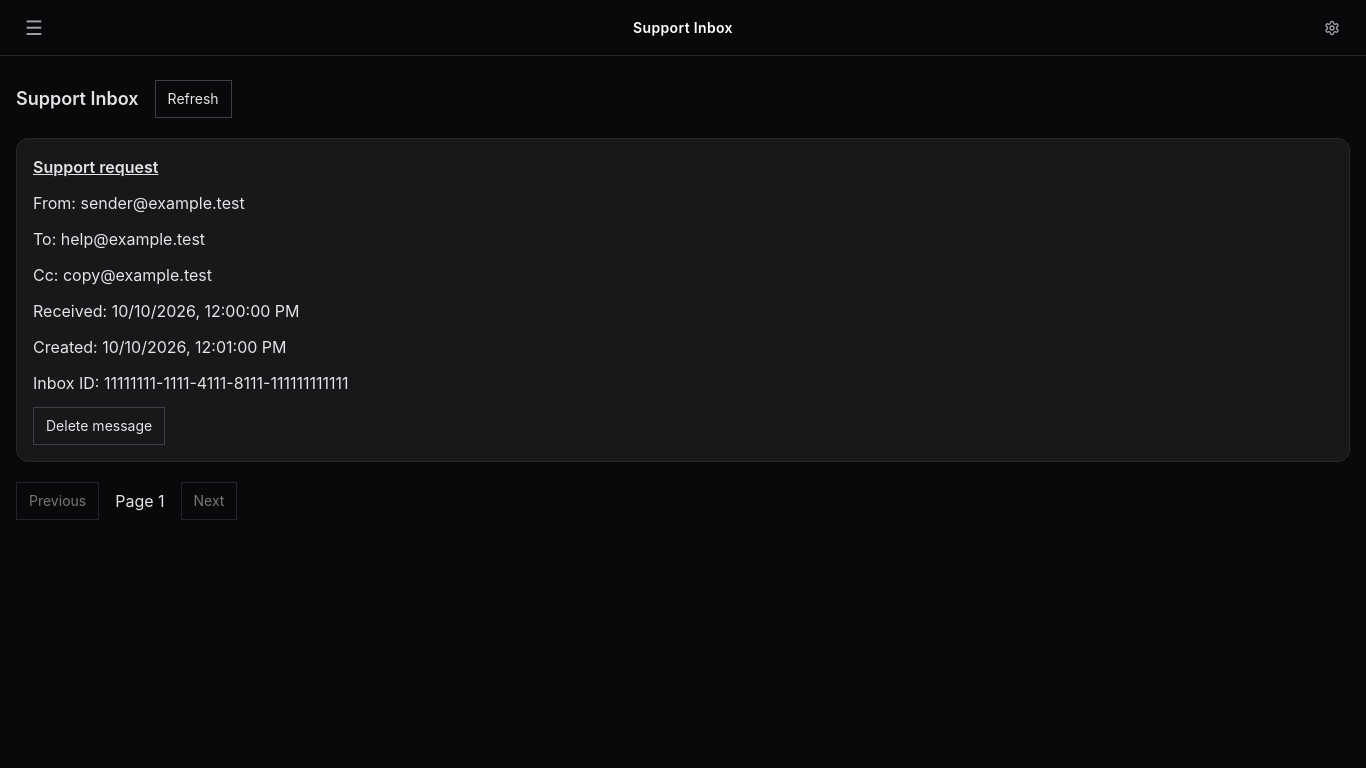
Test: Admin support inbox › recovers from rejected deletion requests and allows a verified retry
This screenshot has width=1366, height=768.
Click the button "Delete message". click: [99, 426]
box: [33, 407, 165, 445]
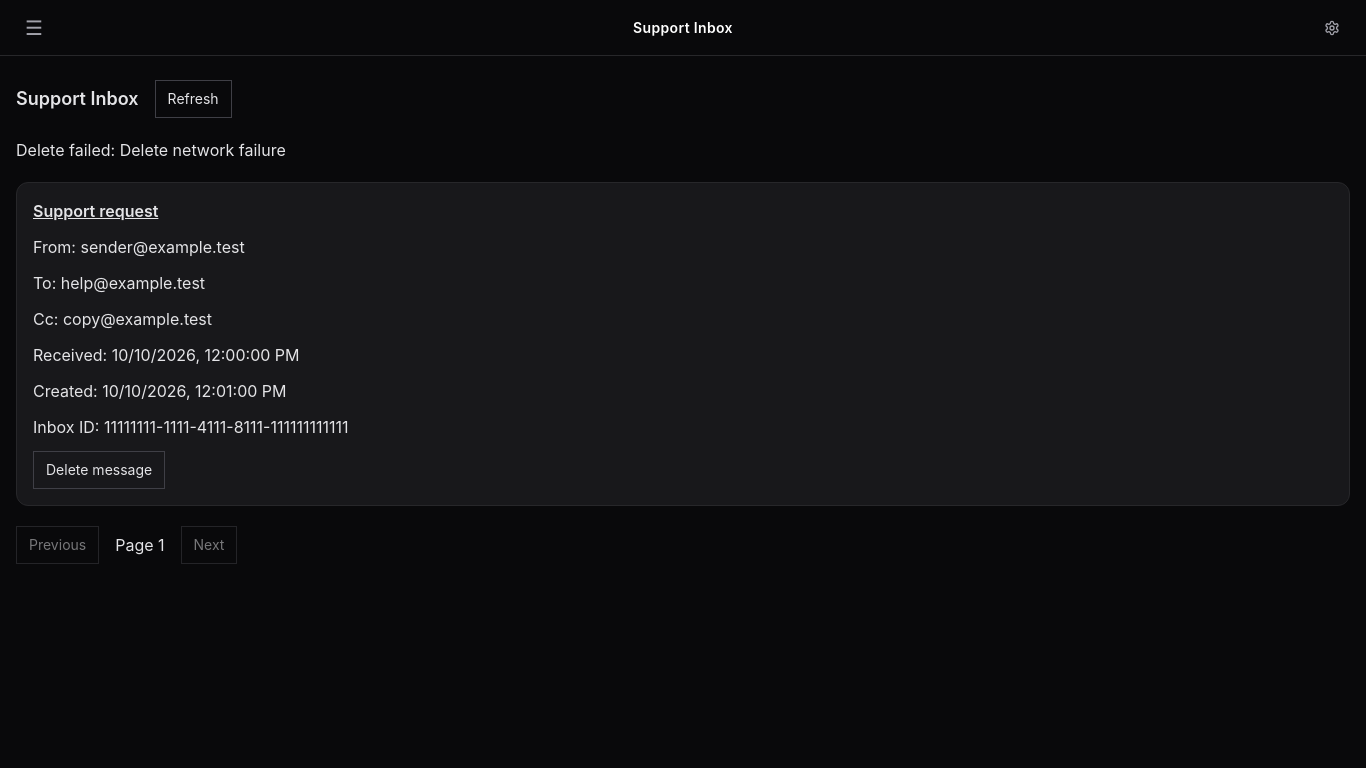
Now the text "Delete failed: Delete network failure" is shown, box [16, 140, 286, 160]
Click the button "Delete message". click: [99, 470]
box: [33, 451, 165, 489]
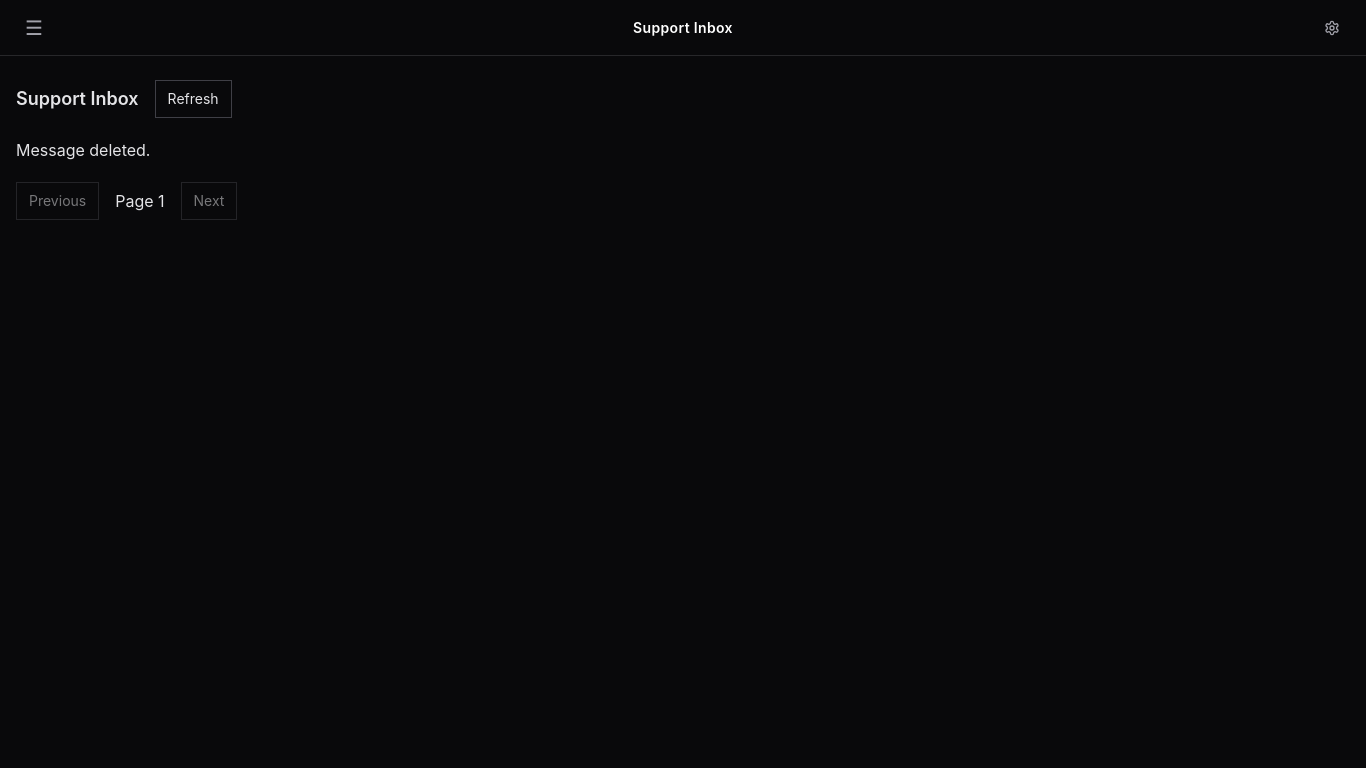
Now the text "Message deleted." is shown, box [16, 140, 150, 160]
